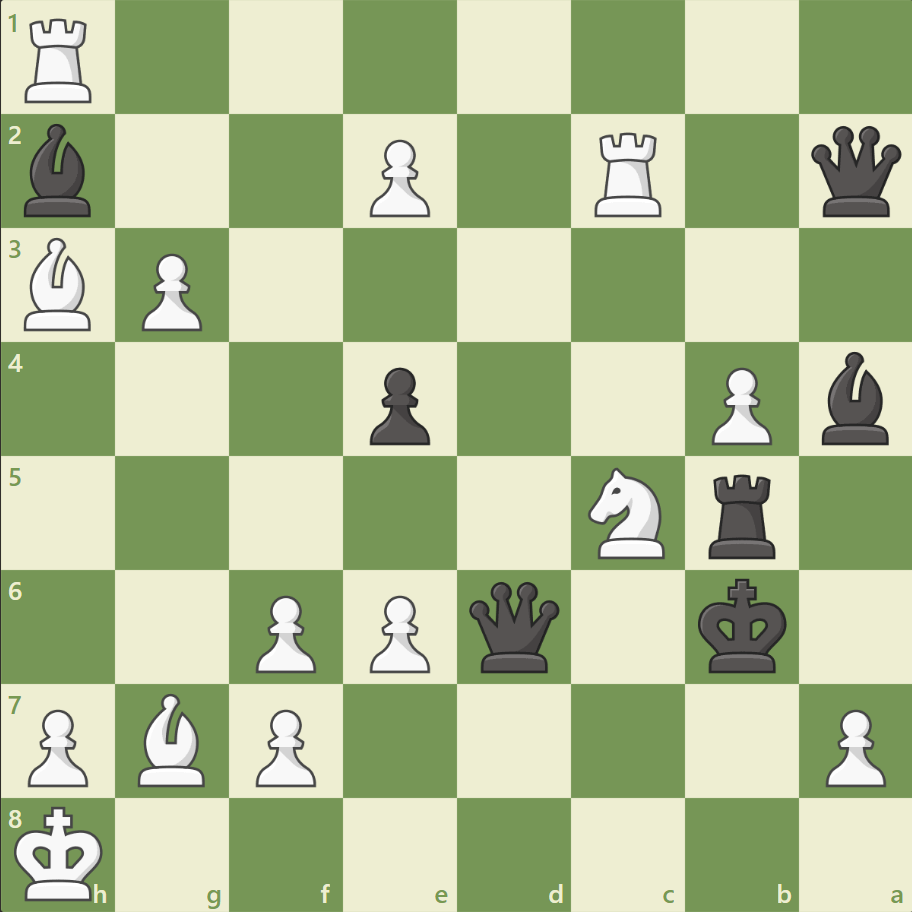B: (131, 687, 215, 790), (17, 233, 101, 336)
K: (11, 798, 111, 906)
N: (579, 461, 676, 564)
P: (247, 700, 322, 791), (20, 700, 95, 791), (247, 586, 322, 677), (701, 359, 776, 450), (133, 246, 208, 337), (815, 700, 889, 791), (361, 586, 435, 677), (361, 132, 435, 223)
R: (587, 125, 670, 222), (19, 12, 102, 109)
b: (812, 347, 896, 449), (17, 120, 101, 222)
k: (692, 571, 792, 679)
p: (361, 359, 435, 450)
q: (464, 576, 563, 676), (805, 122, 904, 222)
r: (700, 466, 783, 563)
